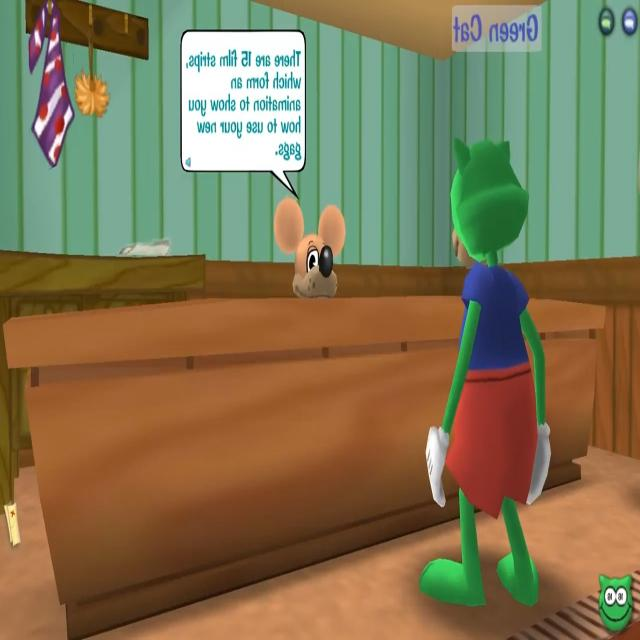npc: (275, 200, 346, 301)
